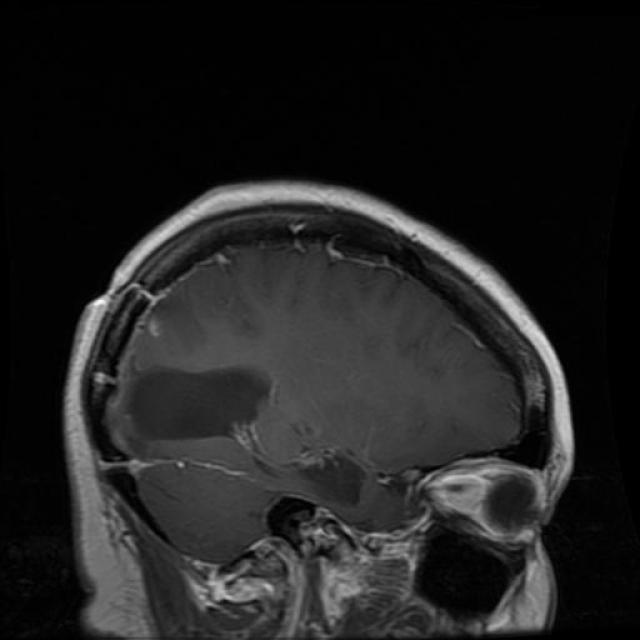glioma: (125, 365, 283, 451)
